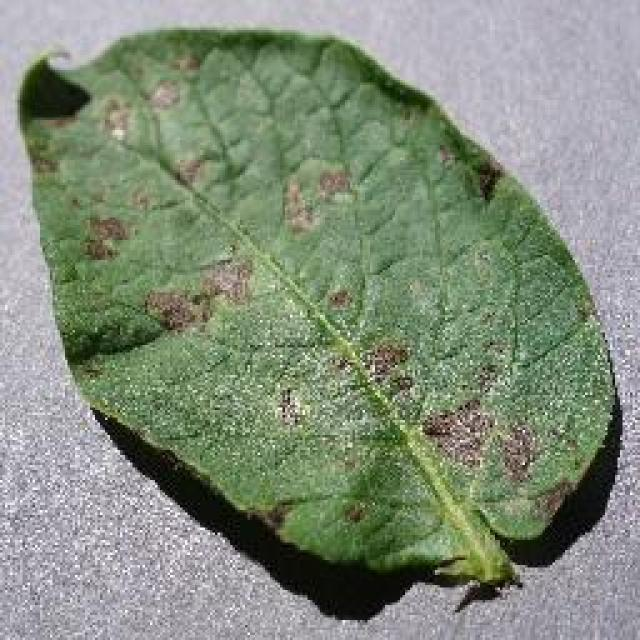early_blight: (12, 22, 622, 592)
